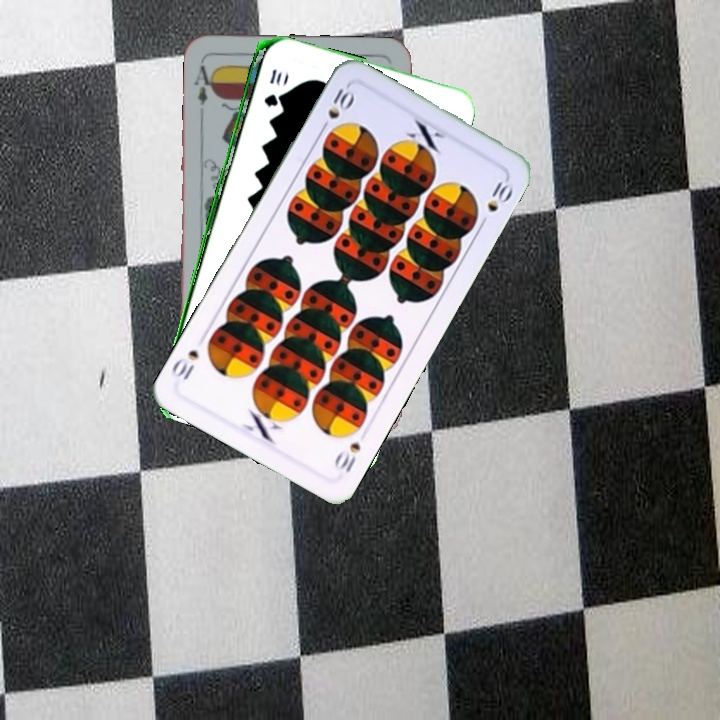EA: (190, 57, 217, 108)
G10: (260, 65, 284, 109)
S10: (316, 84, 357, 135), (330, 438, 364, 476)
